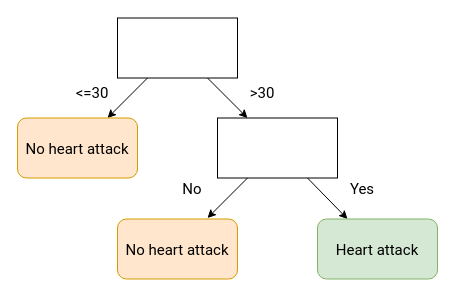
Image size: 455x296. Some labels were removed from this diagram. The shapes that lost their labels are listed below. From the top down, each one's centre as x and y in pixels, then its label:
At pixel 177 47: "Age".
At pixel 277 147: "Hypertension".
